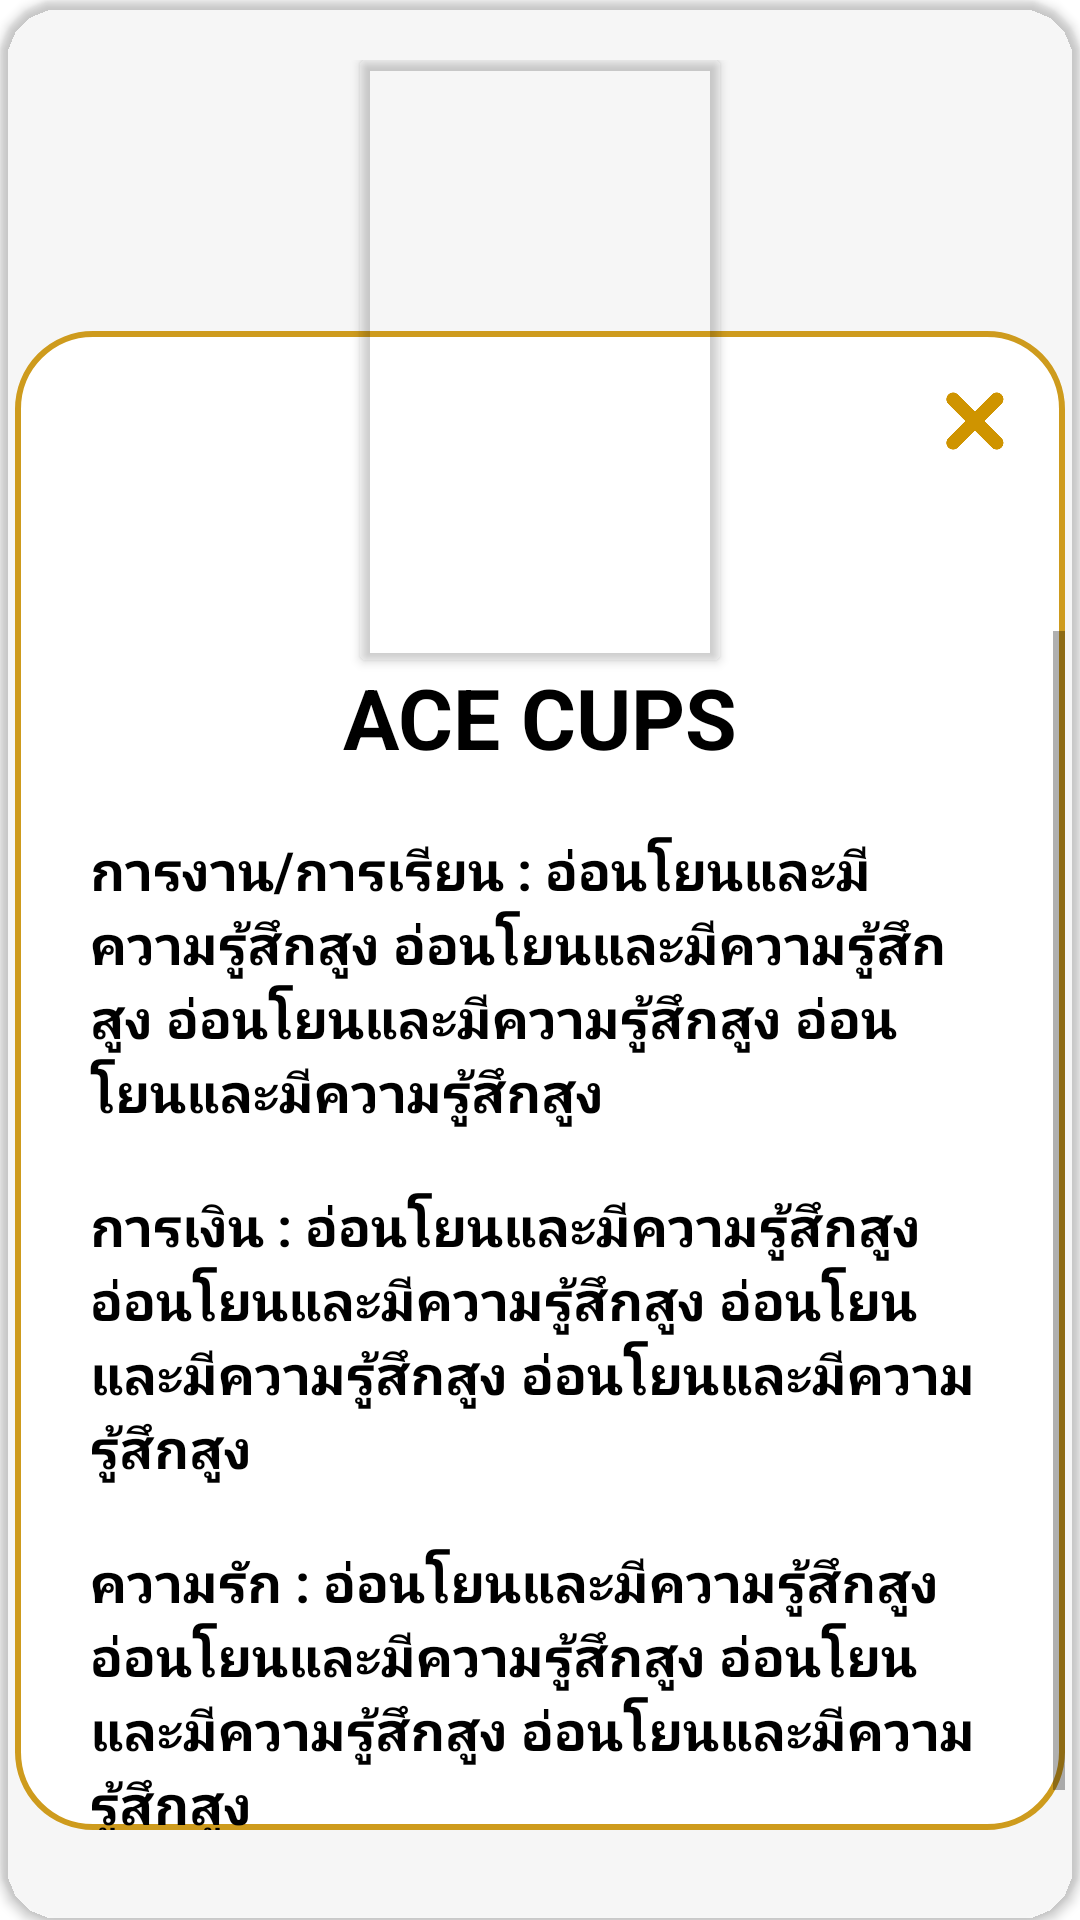

Icons on this 1080×1920 Android screen, each with the point to tap as (x,y):
close: (975,421)
